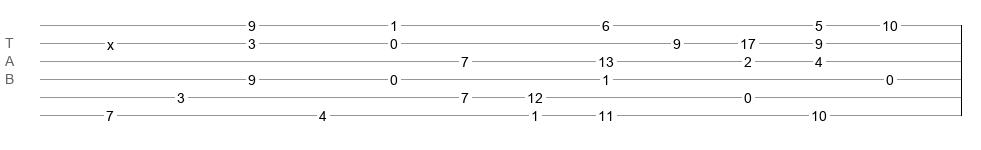0: (390, 72, 398, 82), (390, 36, 398, 46), (744, 90, 752, 100), (886, 72, 894, 82)
1: (390, 18, 398, 28), (531, 108, 539, 118), (602, 72, 610, 82)
10: (811, 108, 827, 118), (882, 18, 898, 28)
11: (598, 108, 614, 118)
12: (527, 90, 543, 100)
13: (598, 54, 614, 64)
17: (740, 36, 756, 46)
2: (744, 54, 752, 64)
3: (177, 90, 185, 100), (248, 36, 256, 46)
4: (319, 108, 327, 118), (815, 54, 823, 64)
5: (815, 18, 823, 28)
6: (602, 18, 610, 28)
7: (106, 108, 114, 118), (461, 54, 469, 64), (461, 90, 469, 100)
9: (248, 72, 256, 82), (248, 18, 256, 28), (673, 36, 681, 46), (815, 36, 823, 46)
x: (107, 37, 114, 45)
